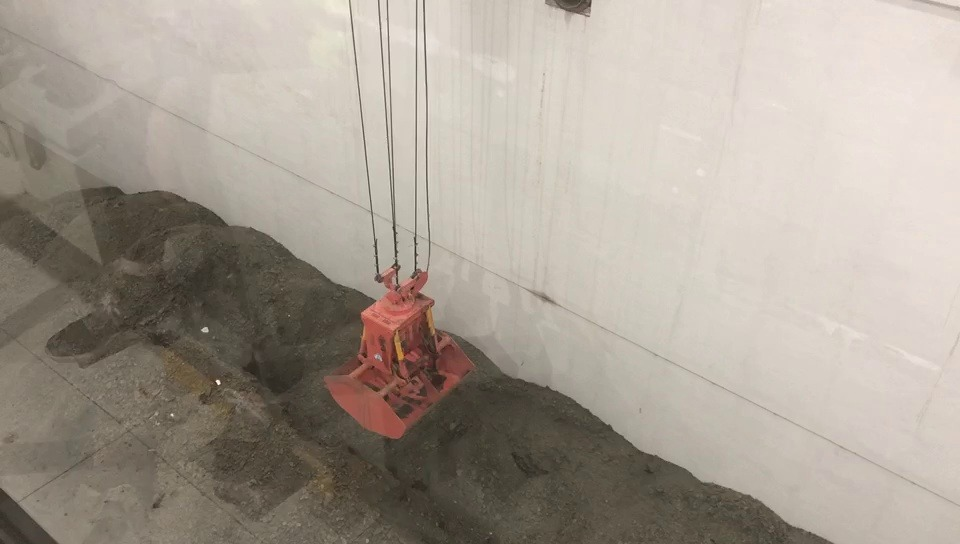grab: (319, 260, 476, 442)
